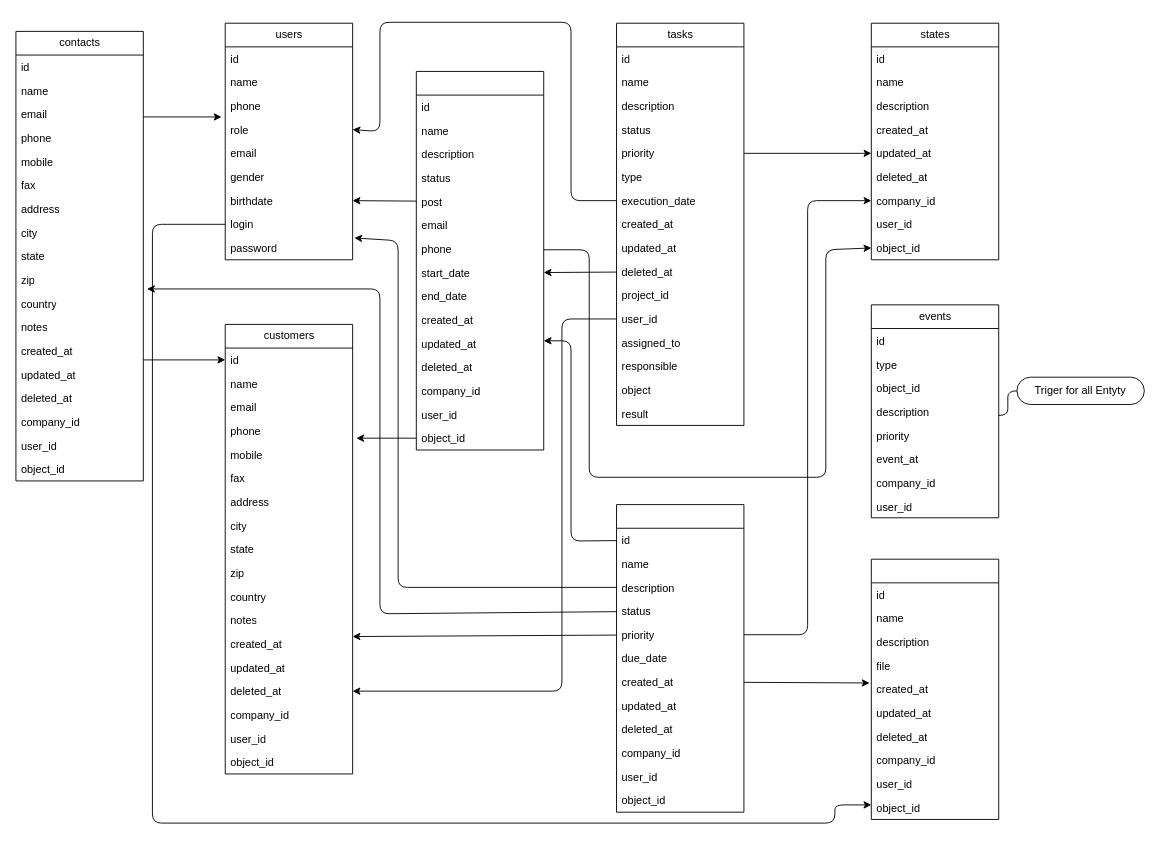
The diagram is 1160 pixels wide and 846 high, and some of its shapes have lost their labels. The shapes that lost their labels are listed below. From the top down, each one's box as (x1, y1, x2, y2) in pixels, then its label:
(415, 71, 544, 450): contracts
(616, 504, 744, 812): mail
(870, 558, 999, 819): files
